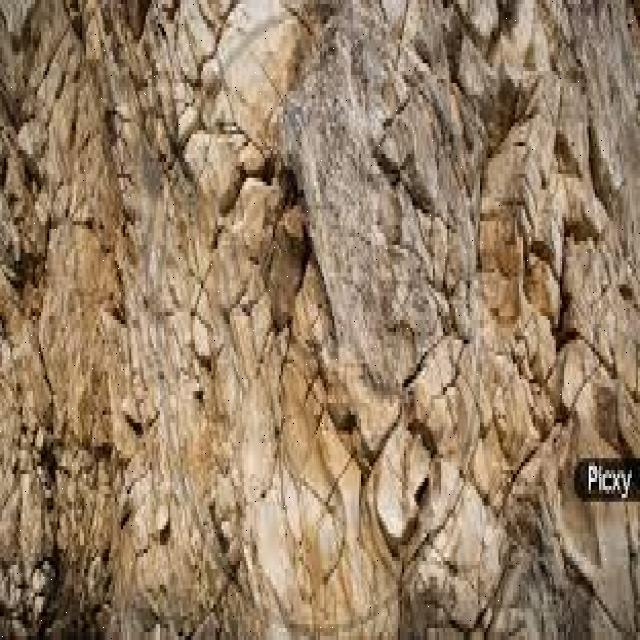Metamorphic: (2, 4, 560, 640)
